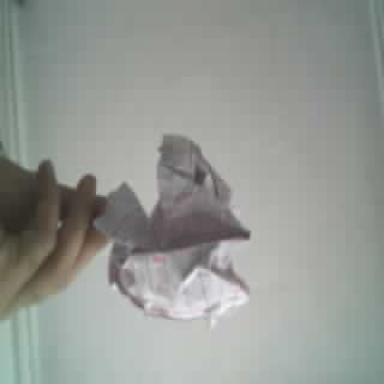paper: (95, 136, 248, 320)
